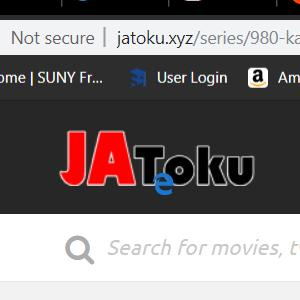edge: (152, 173, 173, 196)
